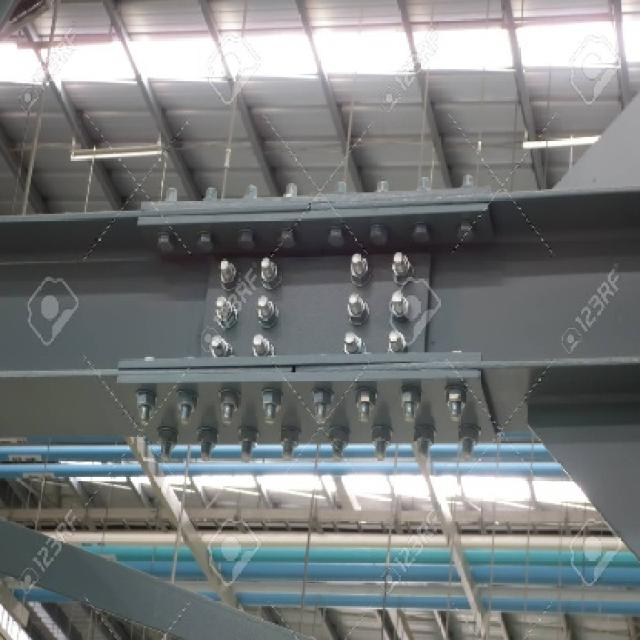Regular bolt: (343, 251, 378, 291), (214, 257, 243, 293), (214, 294, 241, 332), (336, 330, 369, 361), (257, 295, 283, 331), (383, 329, 410, 362), (258, 257, 282, 294), (348, 296, 373, 328), (393, 253, 415, 289), (252, 333, 280, 361), (209, 335, 238, 362), (388, 292, 413, 322)
